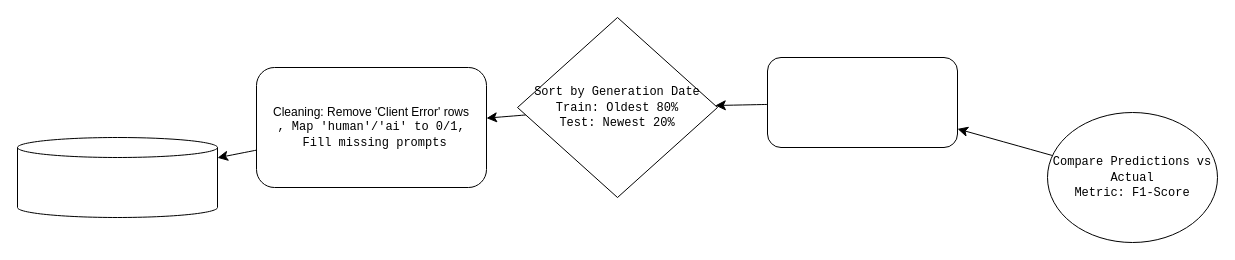
Image size: 1235x260. Some labels were removed from this diagram. The shapes that lost their labels are listed below. From the top down, each one's centre as x and y in pixels, then its label:
(x=862, y=102): Vectorization (TF-IDF) ↓ Logistic Regression
(x=117, y=177): ai_human_detection_v1.csv (686 Raw Samples)
